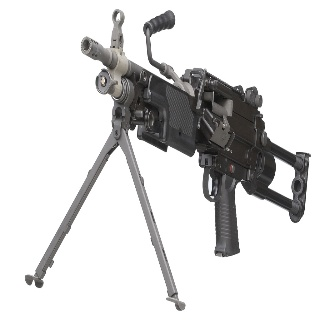rifle: (79, 6, 313, 262)
